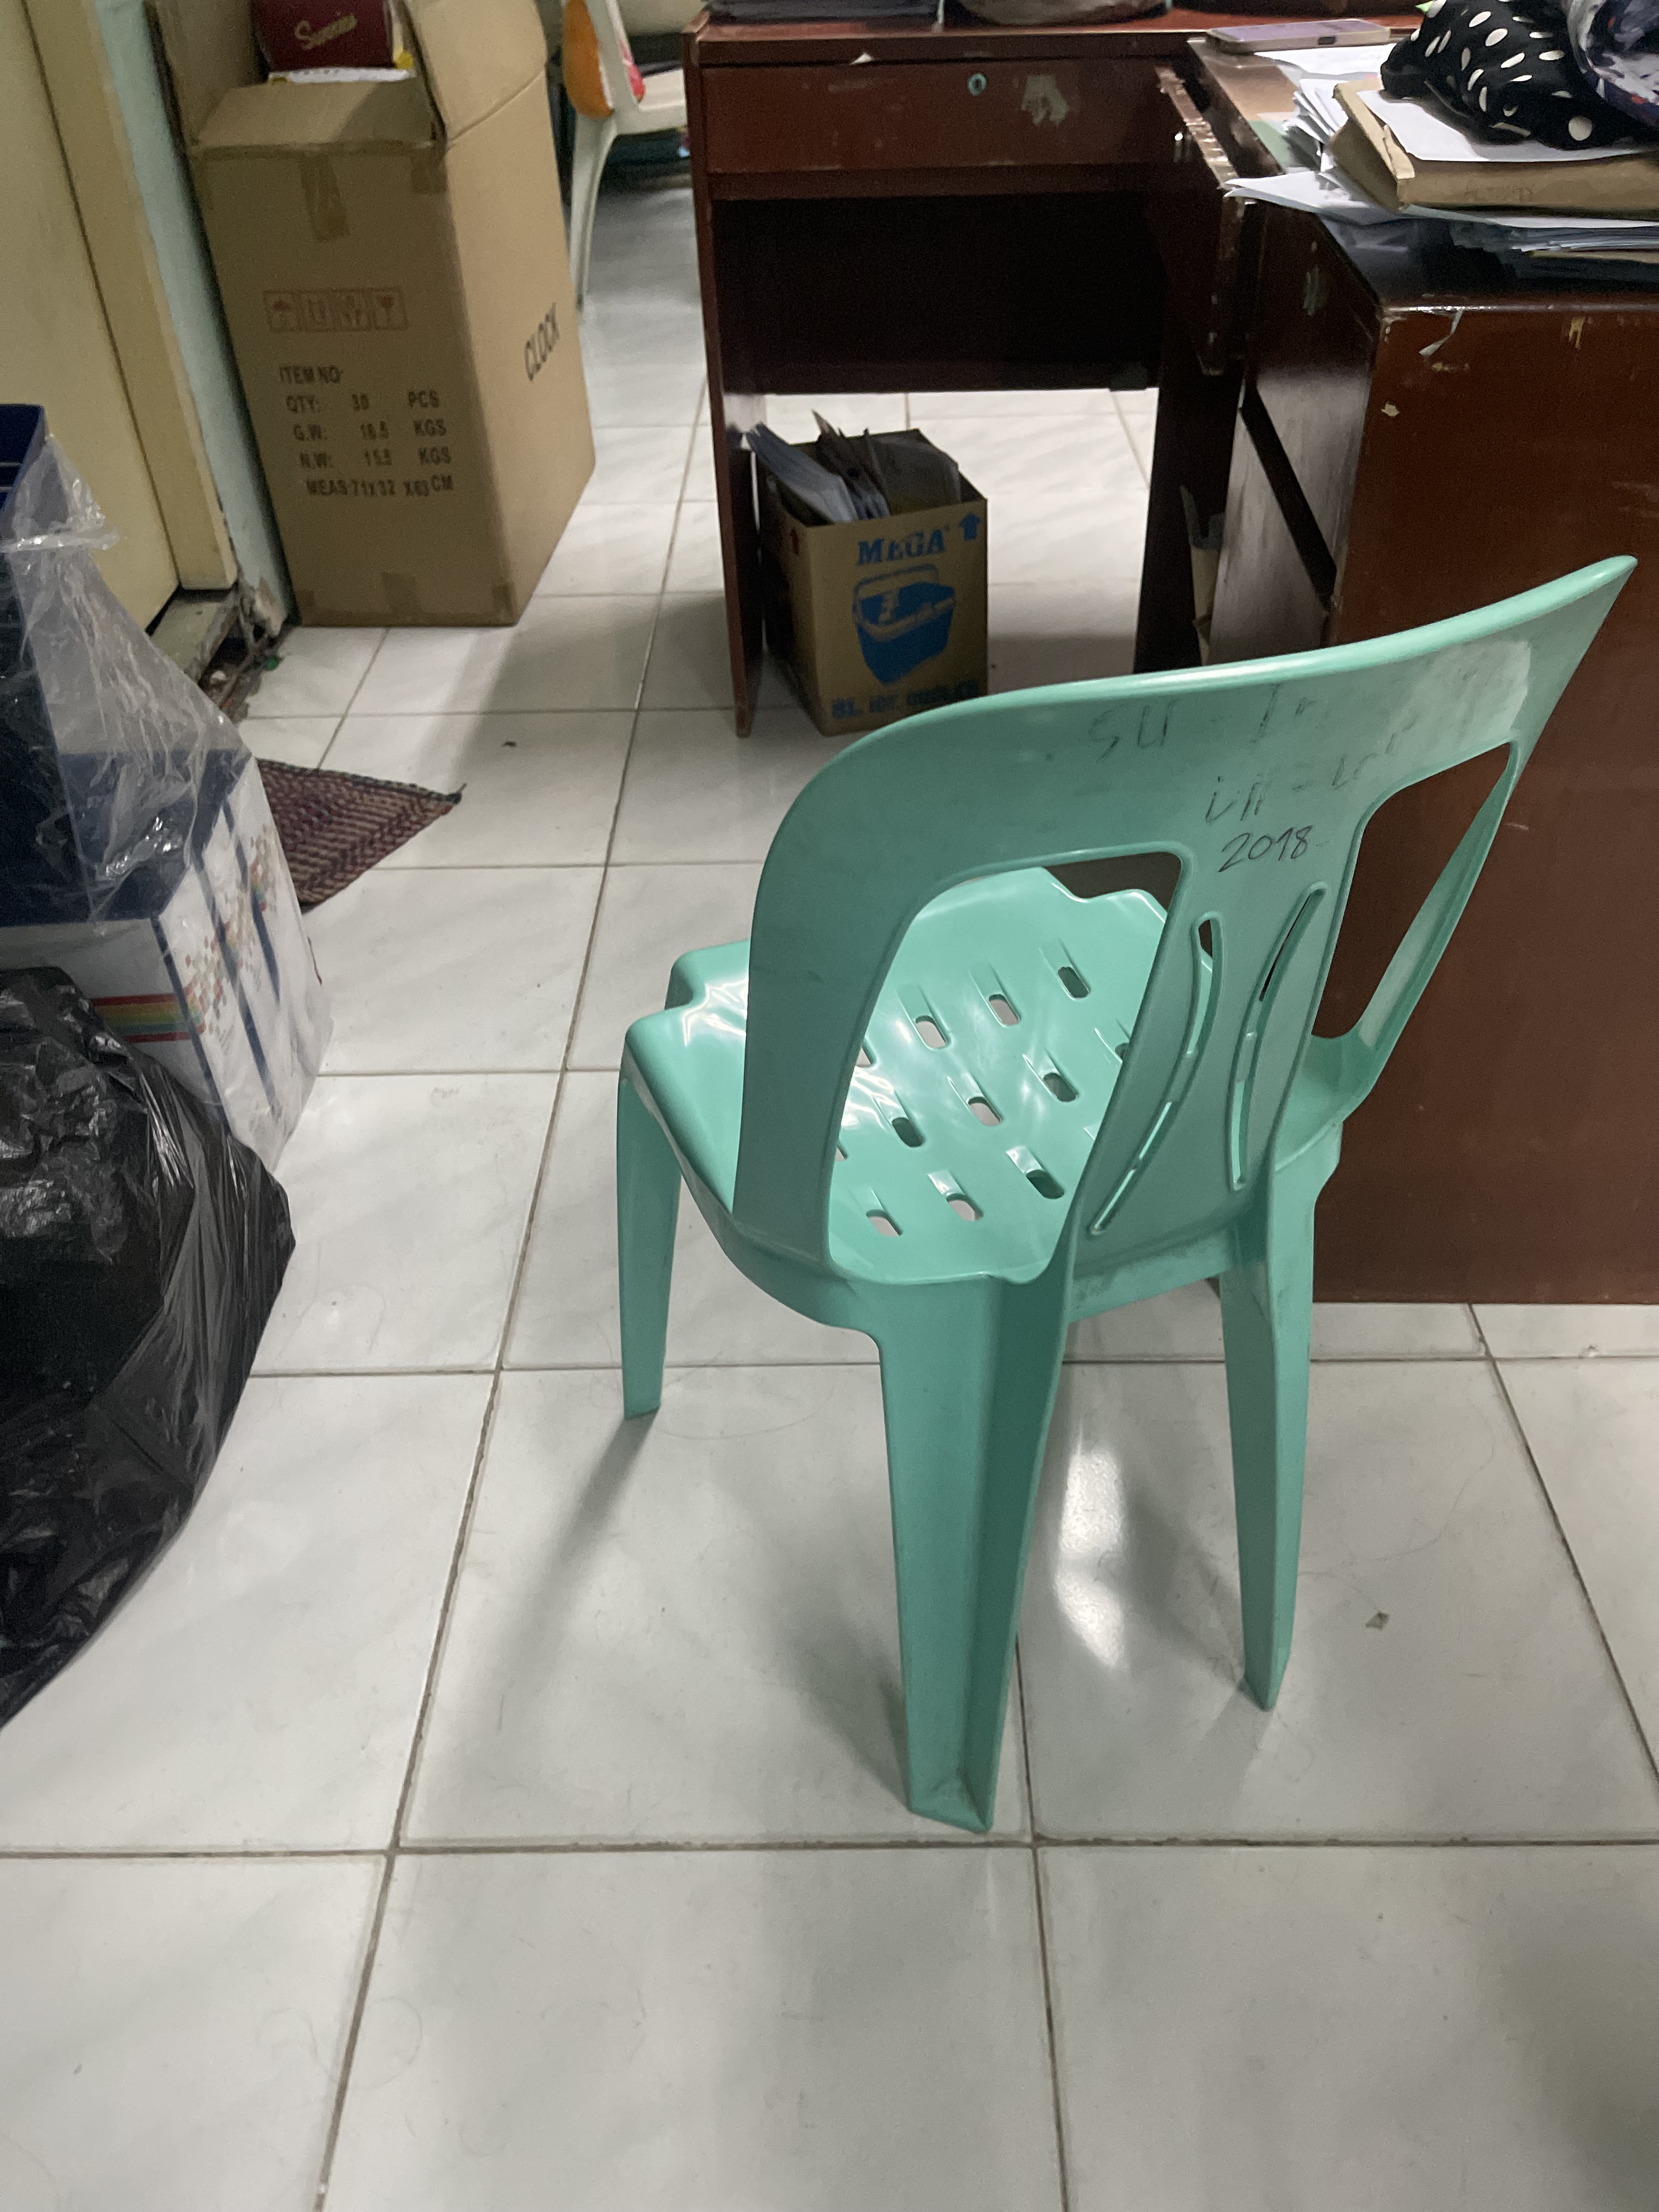chair2: (619, 545, 1643, 1848)
